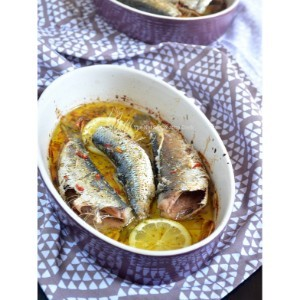sardine_brain food: (78, 131, 202, 214)
